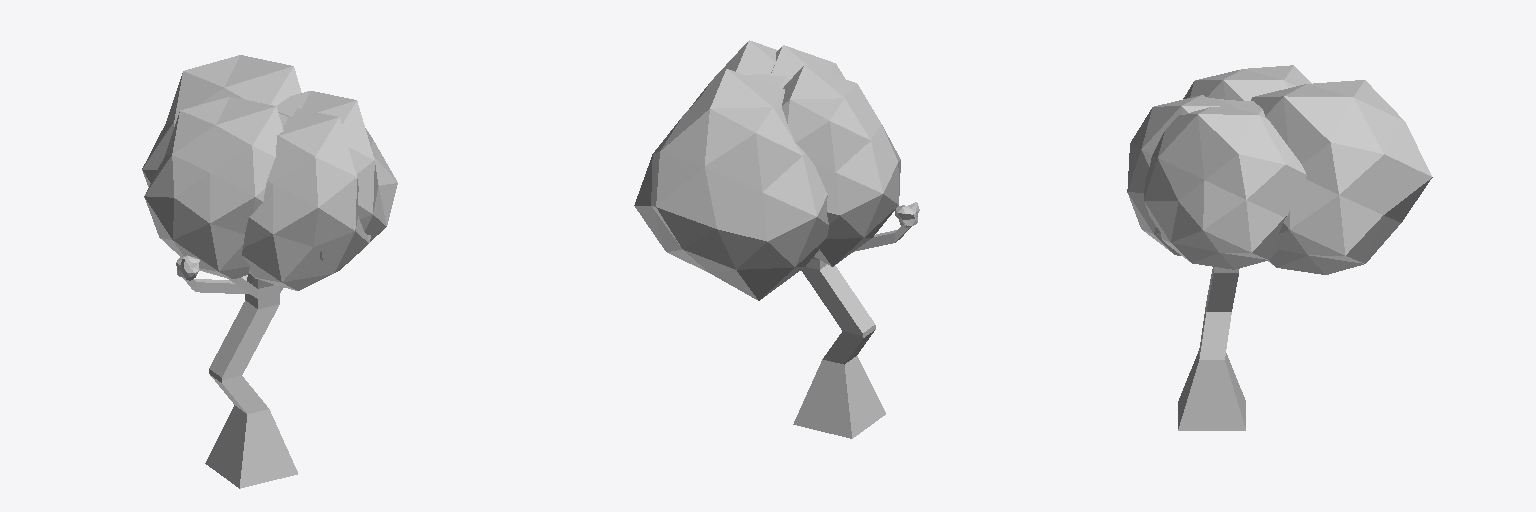
File: tree3.obj
3 renders of one model, left to right at view 1: azimuth 30°, elevation 25°; view 2: azimuth 150°, elevation 25°; view 3: azimuth 270°, elevation 25°, orthographic.
Parts seen in each view (by area): view 1: TreeBlooming; view 2: TreeBlooming; view 3: TreeBlooming.
Part boxes in pixels (left/top/right/bottom): TreeBlooming: left=142, top=55, right=397, bottom=488; TreeBlooming: left=634, top=40, right=919, bottom=438; TreeBlooming: left=1127, top=65, right=1432, bottom=430.
Bounding box in the file's own units: 7.67 × 11.54 × 8.93.